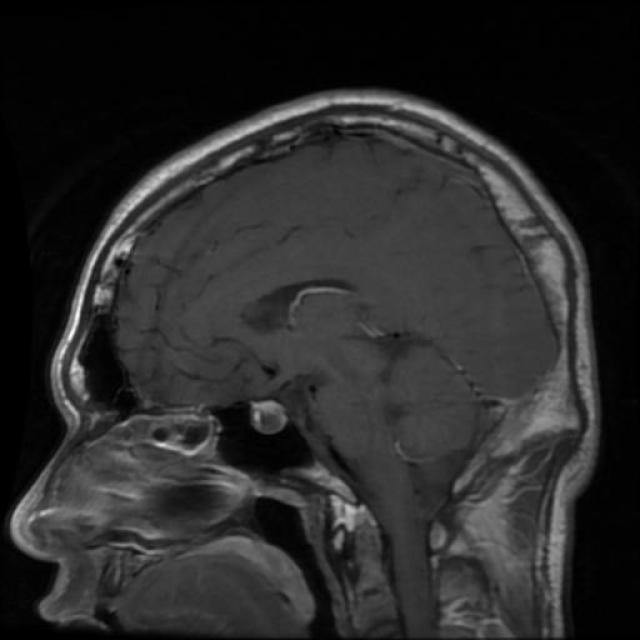pituitary: (245, 394, 377, 546)
